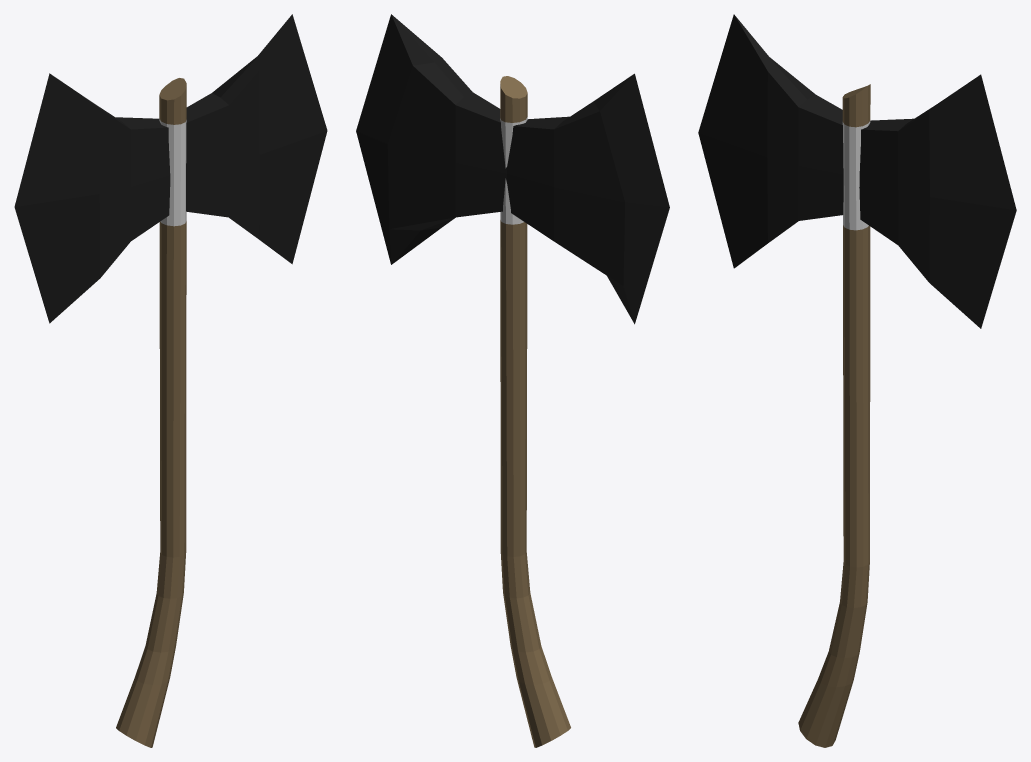
Rendered from Tier03Axe.fbx.
3 renders of one model, left to right at view 1: azimuth 30°, elevation 25°; view 2: azimuth 150°, elevation 25°; view 3: azimuth 330°, elevation 25°, orthographic.
Parts seen in each view (by area): view 1: Tier2Axe.001; view 2: Tier2Axe.001; view 3: Tier2Axe.001.
Part boxes in pixels (box(x1,y1,x2,y2)): Tier2Axe.001: box(14, 14, 327, 747); Tier2Axe.001: box(356, 14, 669, 747); Tier2Axe.001: box(698, 14, 1016, 747).
Size of the model in its own units: 119 by 252 by 13.82.
